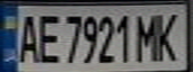1: (115, 10, 136, 64)
2: (97, 11, 118, 64)
7: (60, 10, 84, 64)
9: (78, 10, 100, 64)
A: (12, 10, 42, 64)
E: (33, 10, 63, 64)
K: (151, 8, 187, 62)
M: (133, 9, 163, 63)
